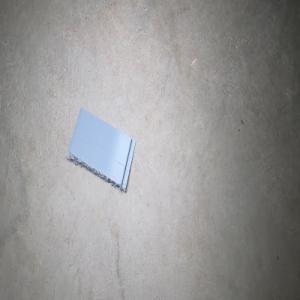PlasticPart: (66, 106, 136, 193)
